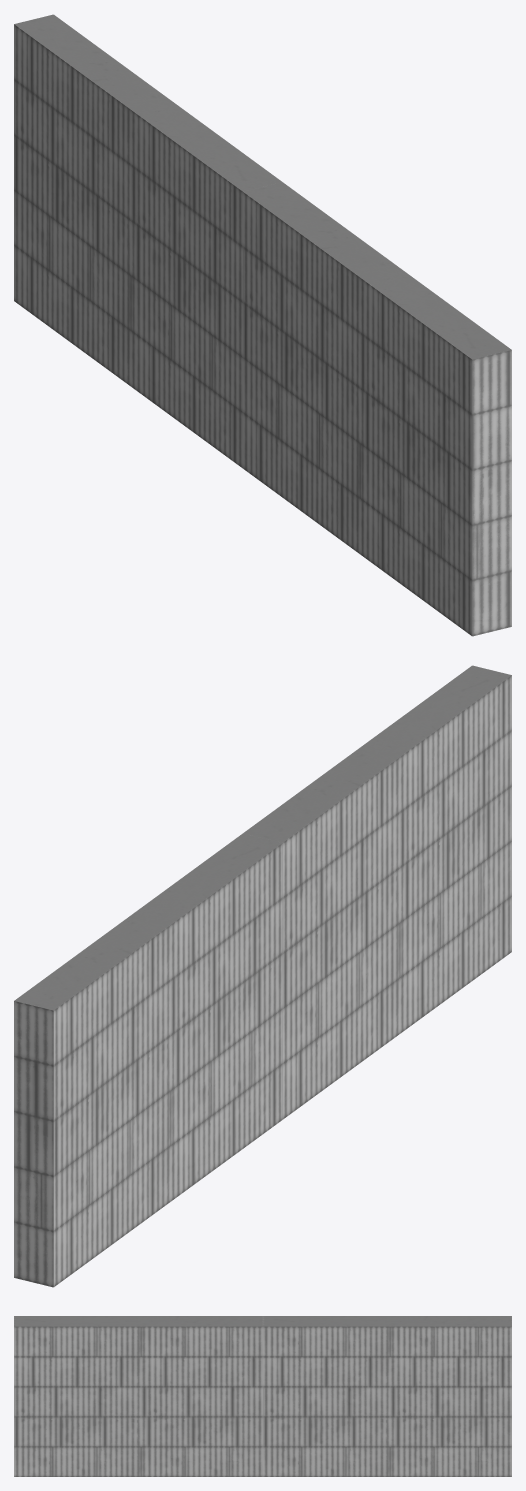
The model's file is Kabe00x2.FBX.
3 renders of one model, top to bottom at view 1: azimuth 30°, elevation 25°; view 2: azimuth 150°, elevation 25°; view 3: azimuth 270°, elevation 25°, orthographic. The views are drawn at different scales.
Visible parts, largest first — view 1: Kabe00; view 2: Kabe00; view 3: Kabe00.
Part boxes in pixels (x1,y1,x2,y2): Kabe00: (14,14,511,636); Kabe00: (14,665,511,1287); Kabe00: (14,1316,511,1476).
Bounding box in the file's own units: 5.91 × 39.37 × 118.
